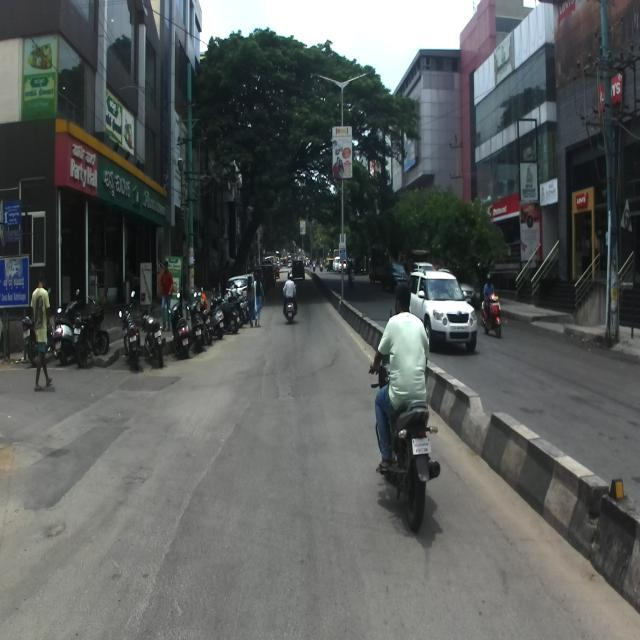motorcycle ahead at: (378, 390, 437, 535), (114, 293, 142, 366)
person ahead at: (30, 273, 58, 389)
